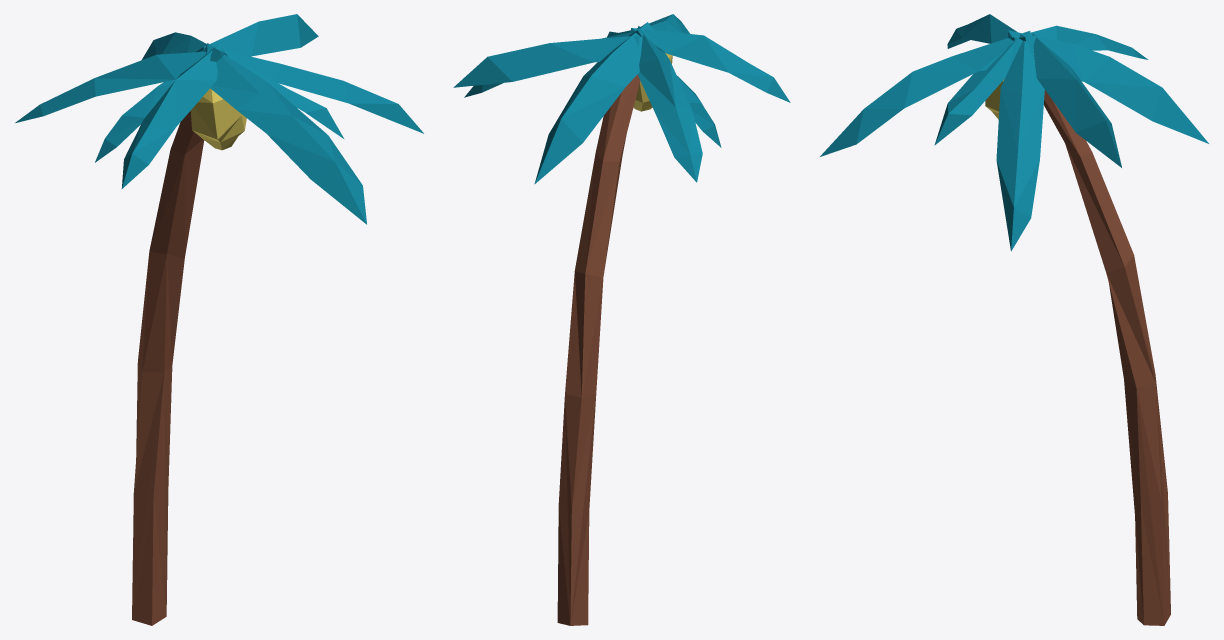
File: Tree_11_summer_blue_mat.fbx
3 renders of one model, left to right at view 1: azimuth 30°, elevation 25°; view 2: azimuth 150°, elevation 25°; view 3: azimuth 270°, elevation 25°, orthographic. The views are drawn at different scales.
Parts seen in each view (by area): view 1: Tree_11_summer_blue_mat; view 2: Tree_11_summer_blue_mat; view 3: Tree_11_summer_blue_mat.
Boxes of the visible parts, x1,y1,x2,y2 form: Tree_11_summer_blue_mat: (15, 14, 423, 625); Tree_11_summer_blue_mat: (453, 14, 790, 625); Tree_11_summer_blue_mat: (820, 14, 1208, 625).
Size of the model in its own units: 117 by 207 by 124.
